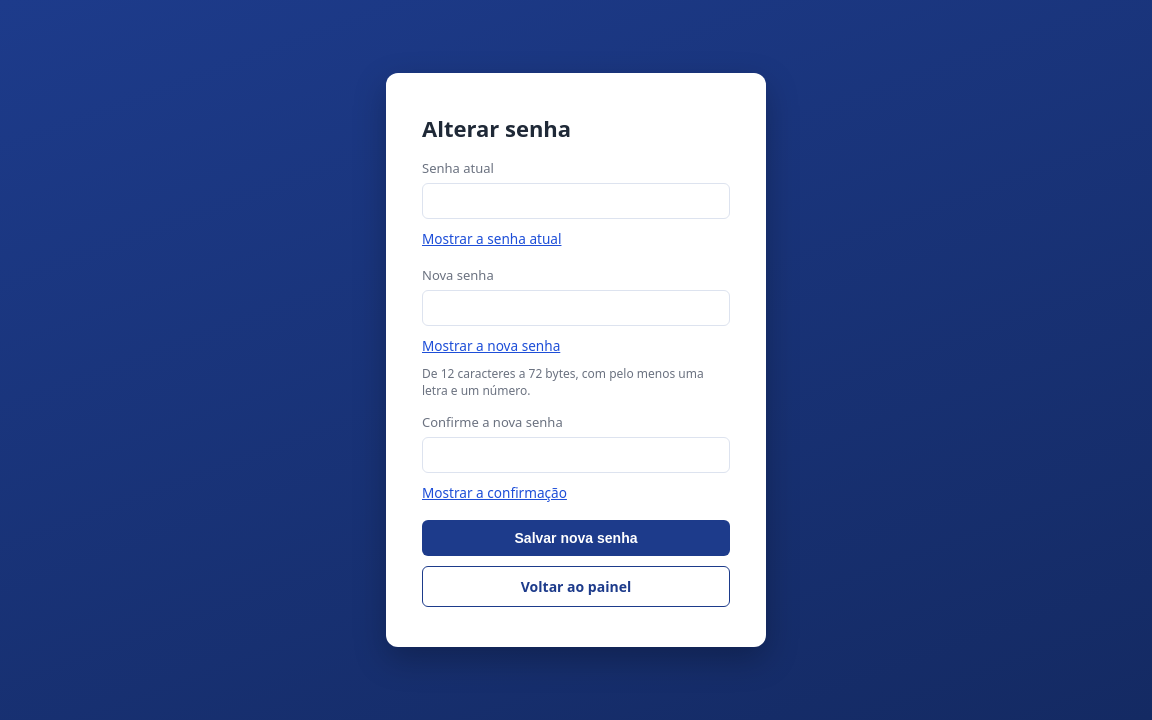
Test: página de alteração de senha › um erro sem campo, como a falta de conexão, aparece como mensagem geral
Type "senha-correta" into the password field labelled "Senha atual" at [576, 201], box [422,183,730,219]
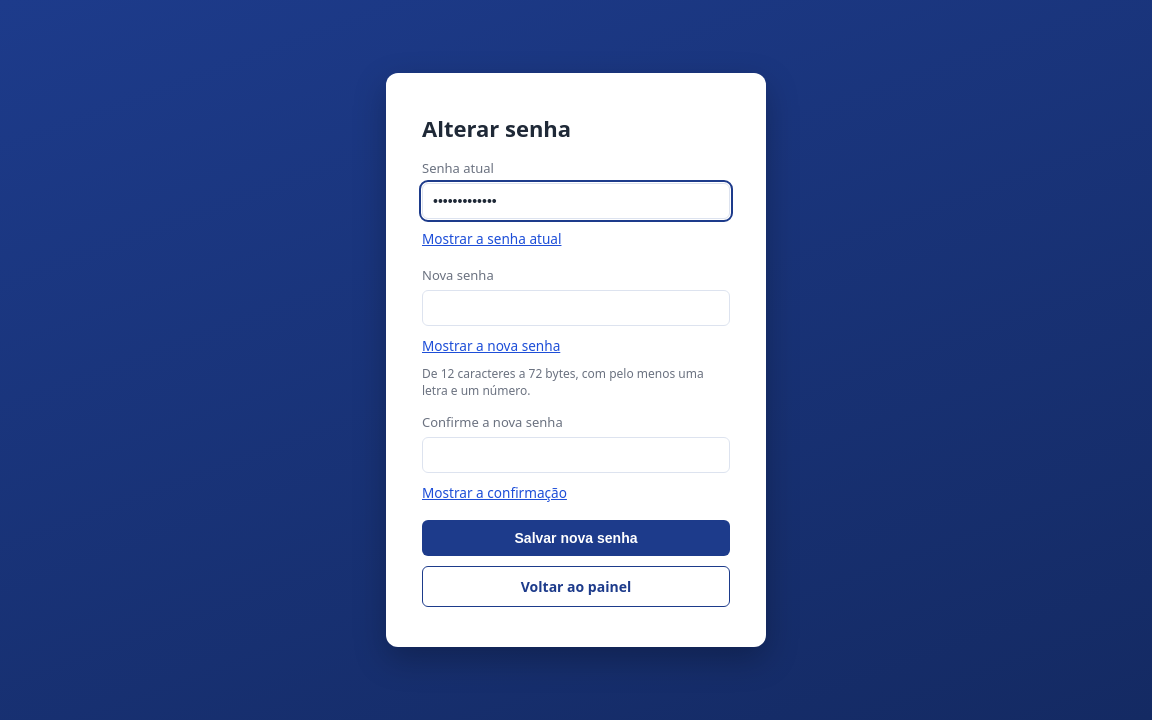
Type "Fresa2026retifica" into the password field labelled "Nova senha" at [576, 308], box [422,290,730,326]
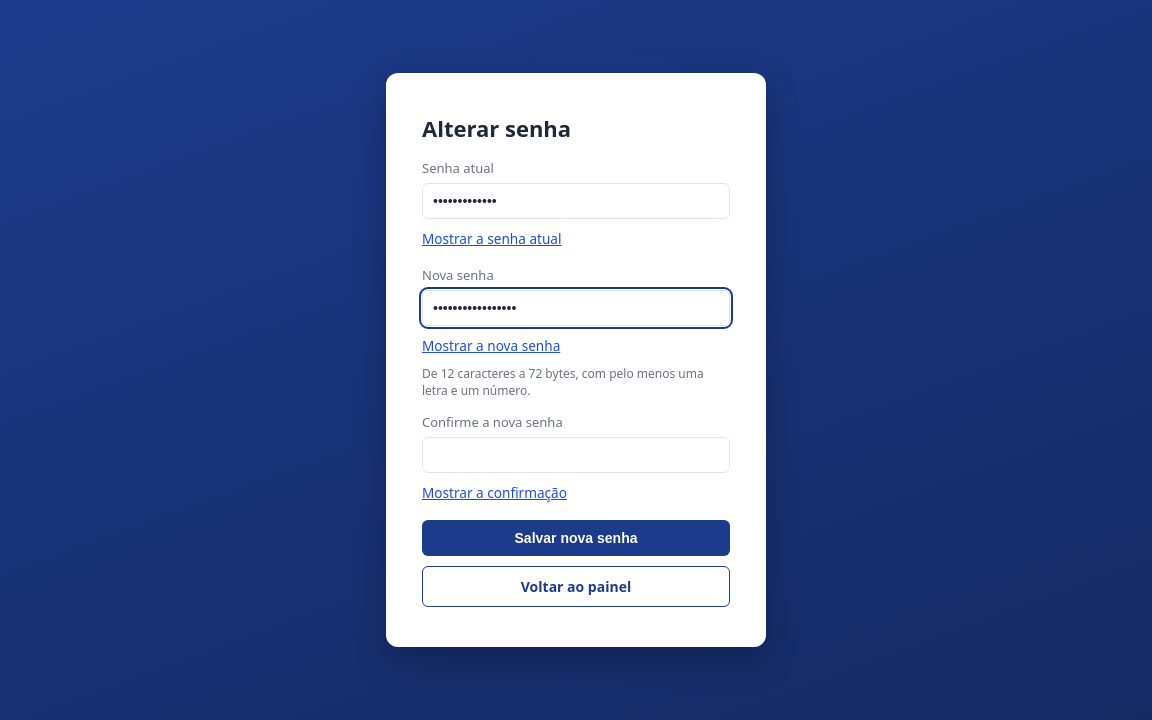
Type "Fresa2026retifica" into the password field labelled "Confirme a nova senha" at [576, 455], box [422,437,730,473]
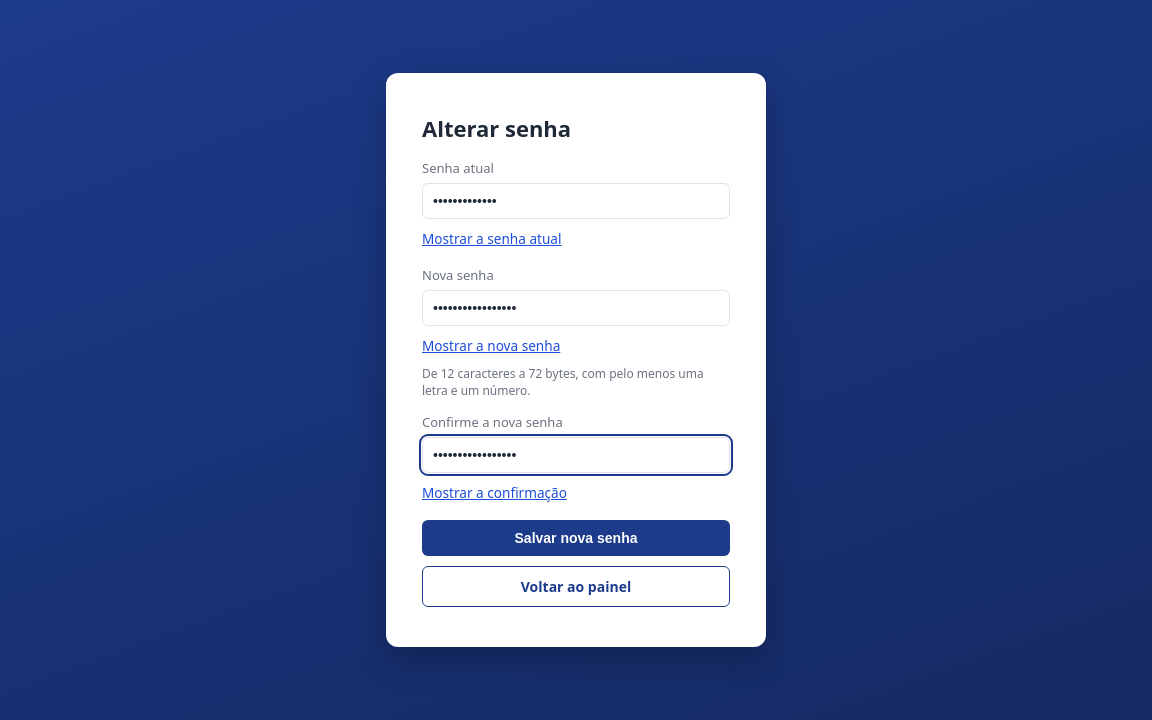
Click the button "Salvar nova senha" at [576, 538], box [422,520,730,556]
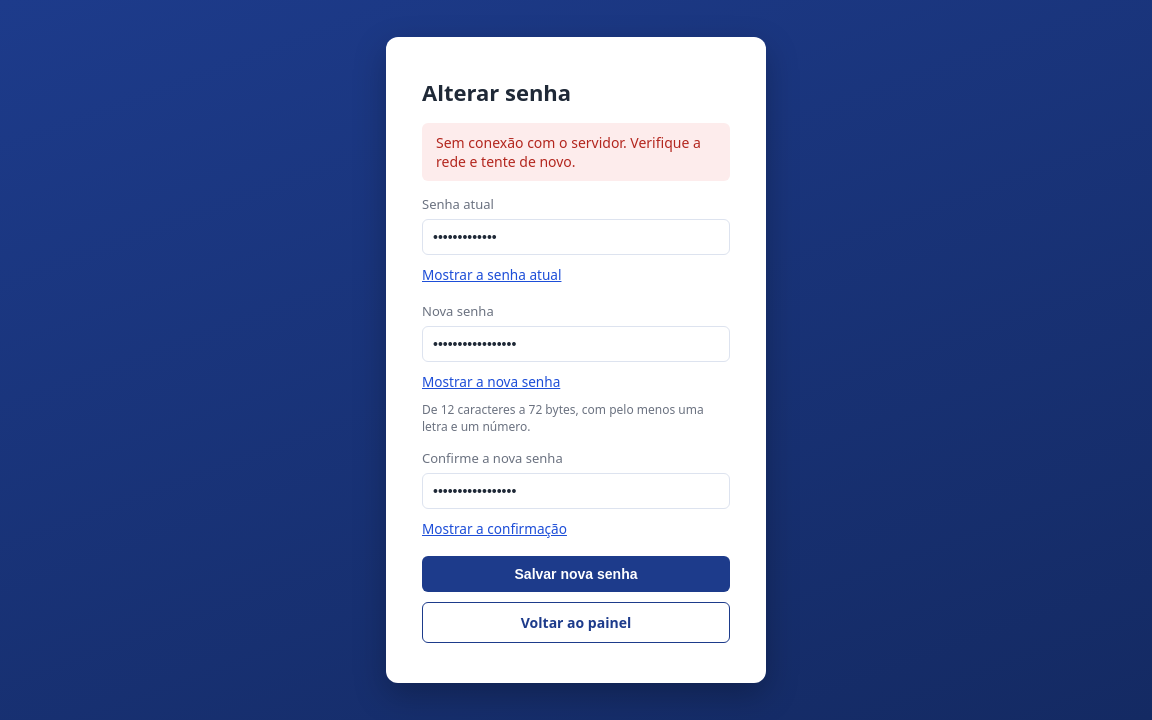
Check: the message shows "Sem conexão com o servidor", box [436,133,701,171]
